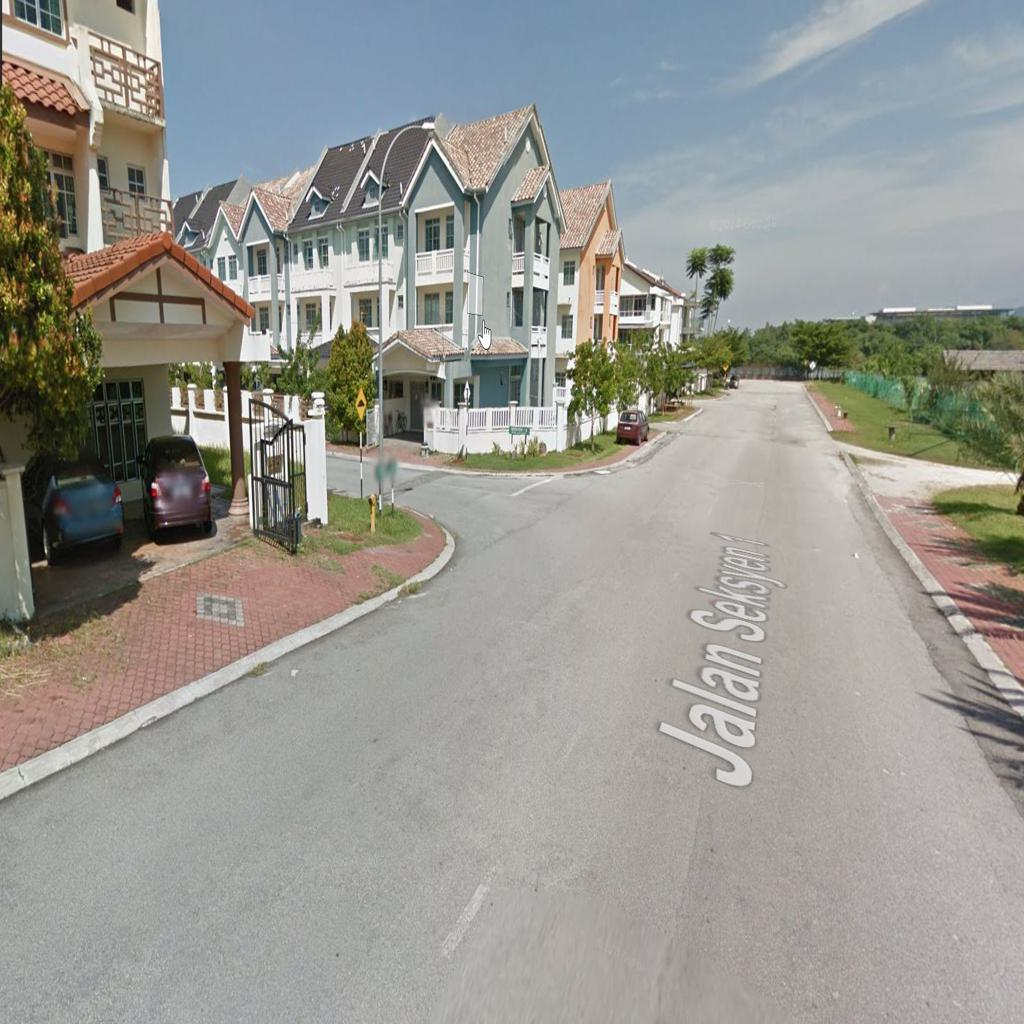Junction: (367, 441, 611, 580)
